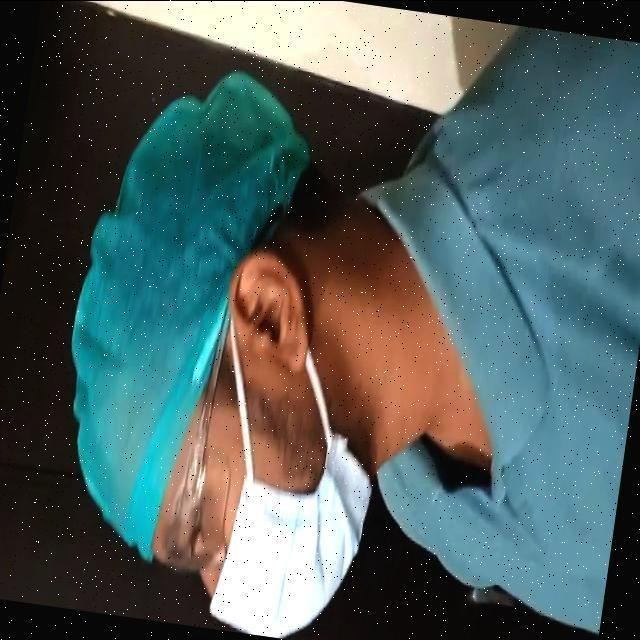gloves: (66, 83, 308, 469)
mask: (208, 467, 382, 630)
